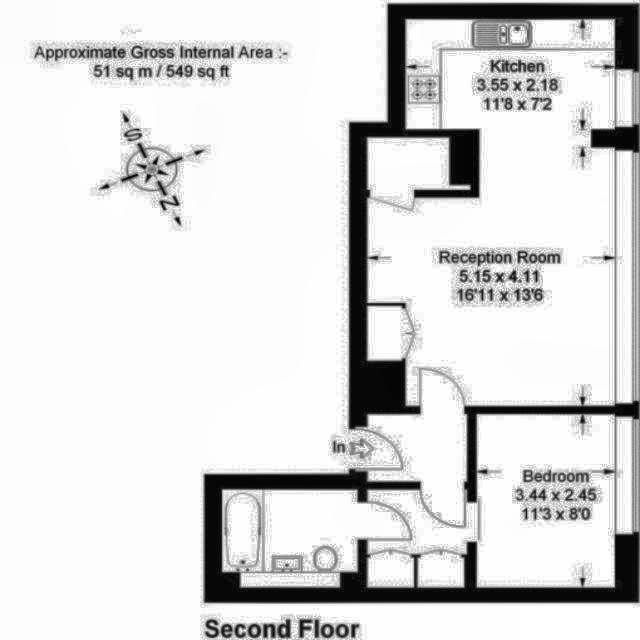room: (367, 130, 615, 407), (476, 413, 615, 588), (405, 19, 615, 130), (222, 489, 357, 588), (366, 489, 468, 588), (367, 414, 468, 482)
